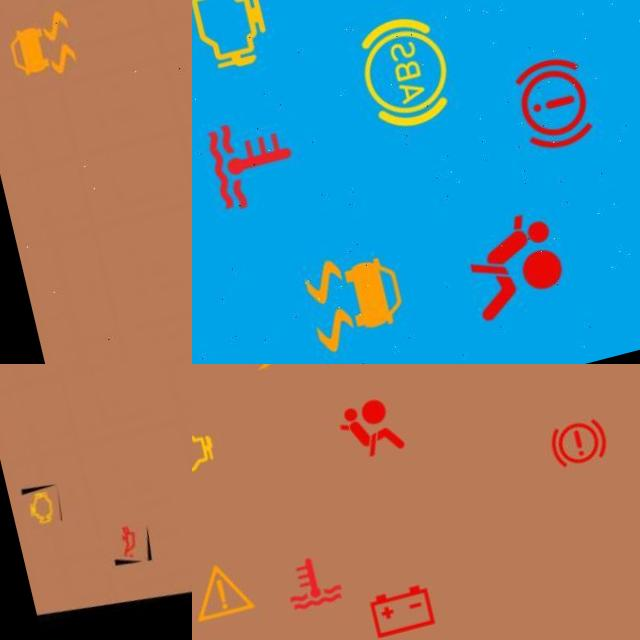High Engine Coolant Temperature: (257, 549, 340, 633)
